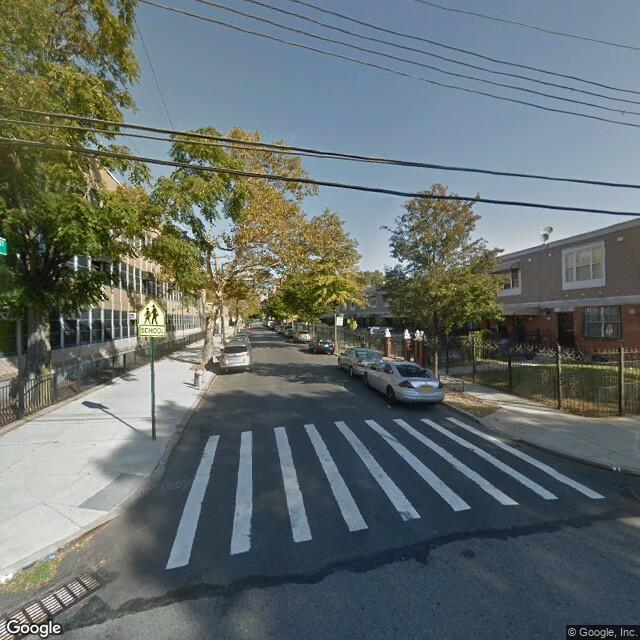litter: (611, 461, 624, 476)
